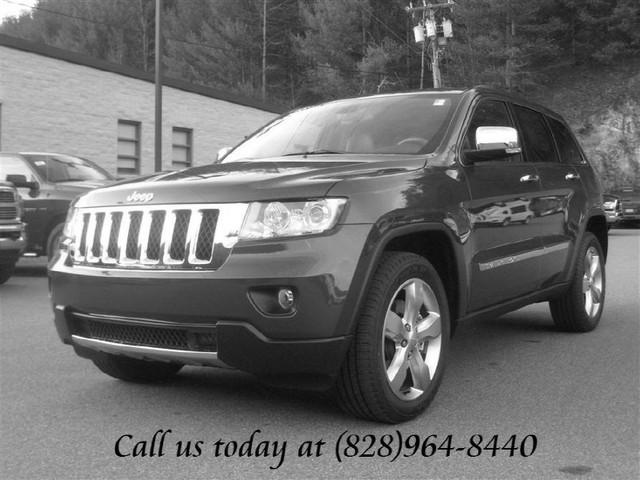car: (45, 89, 610, 426)
